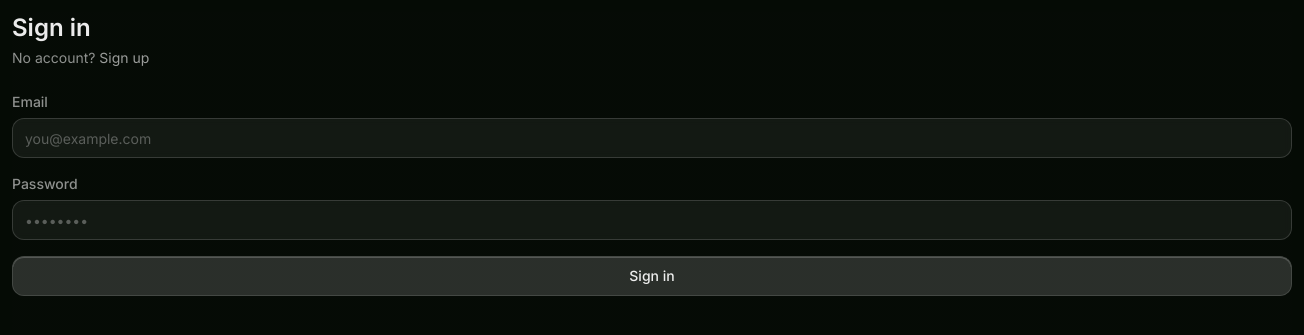
Test: LoginPage › shows a validation error when the password is too short
In the field labelled "Email": point(652, 138) [12, 118, 1292, 158], type "test@example.com"
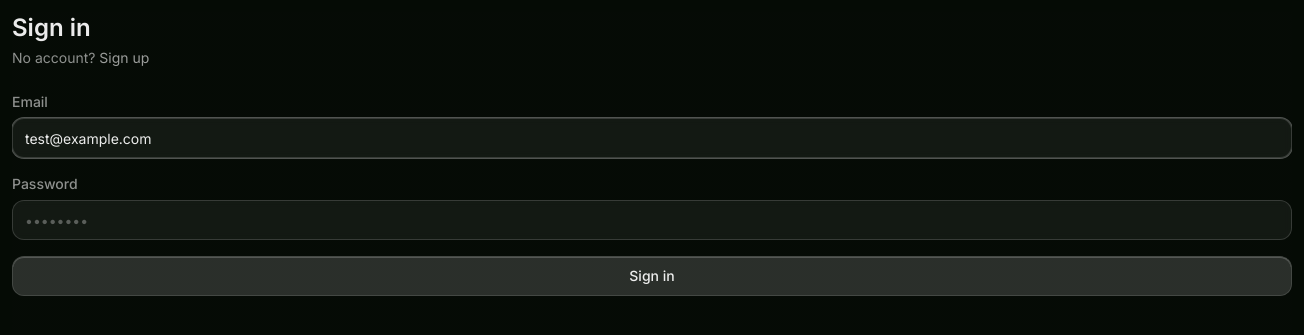
In the password field labelled "Password": point(652, 220) [12, 200, 1292, 240], type "abc"
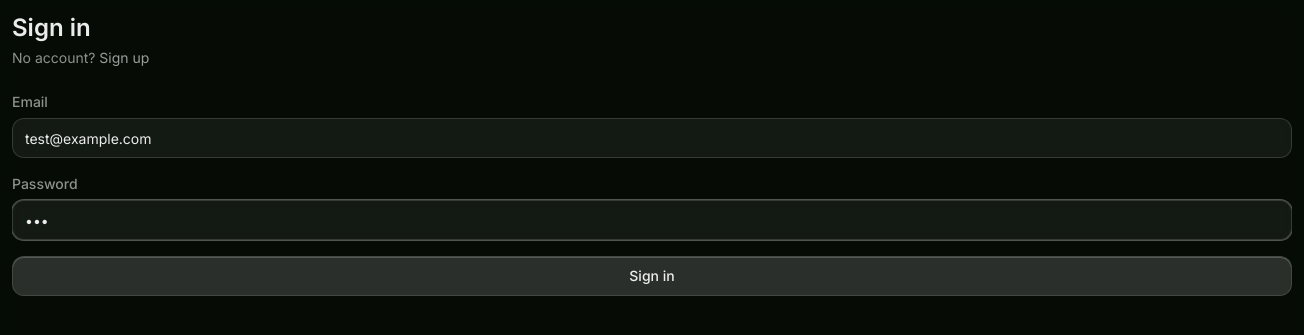
Click the button "Sign in": point(652, 276) [12, 256, 1292, 296]
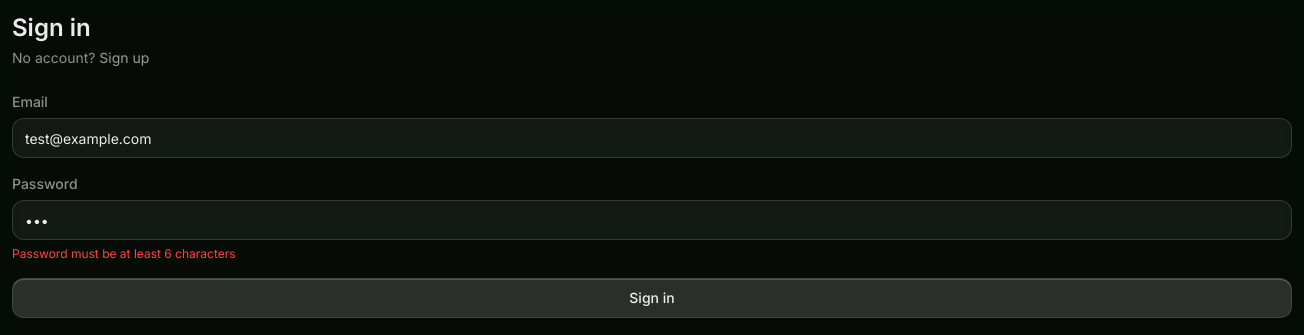
Expected: the text "Password must be at least 6 characters" is shown, [12, 246, 236, 261]
